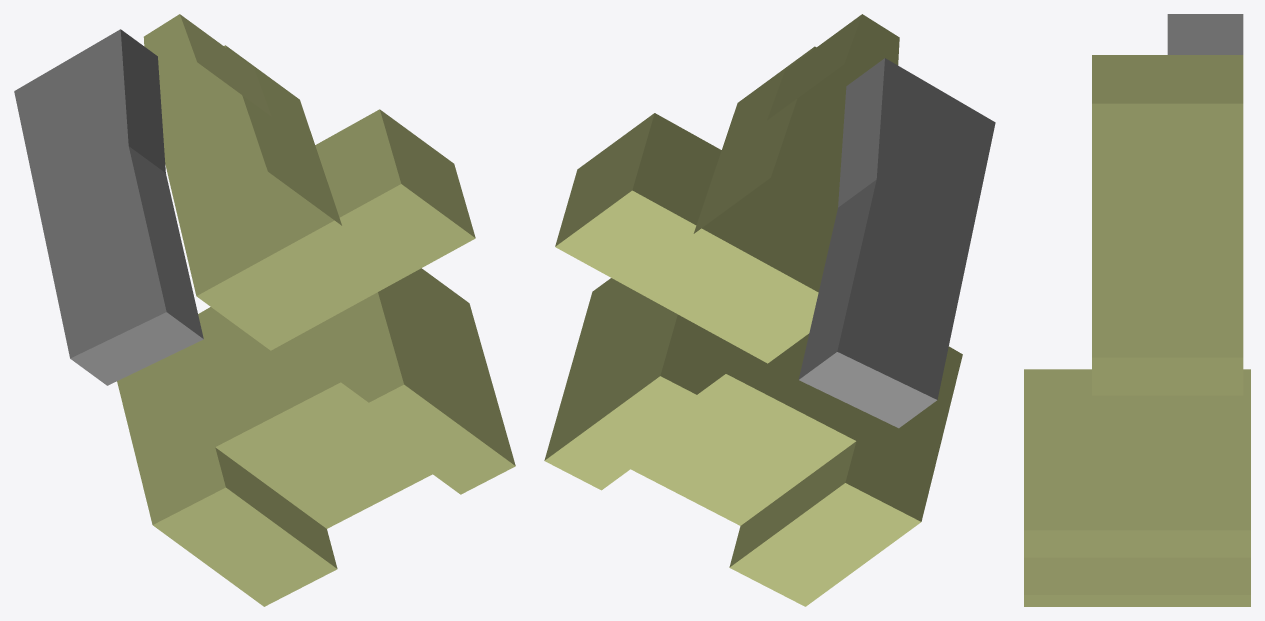
3 views of the same model, side by side, from view 1: azimuth 30°, elevation 25°; view 2: azimuth 150°, elevation 25°; view 3: azimuth 270°, elevation 25° (orthographic). The views are drawn at different scales.
Parts seen in each view (by area): view 1: 0_1_0_2_1_2_3_0_3_3; view 2: 0_1_0_2_1_2_3_0_3_3; view 3: 0_1_0_2_1_2_3_0_3_3.
Part boxes in pixels (bbox=[...]): 0_1_0_2_1_2_3_0_3_3: bbox=[14, 14, 515, 606]; 0_1_0_2_1_2_3_0_3_3: bbox=[544, 14, 995, 606]; 0_1_0_2_1_2_3_0_3_3: bbox=[1024, 14, 1250, 606].
Bounding box in the file's own units: 18.31 × 22.59 × 9.
